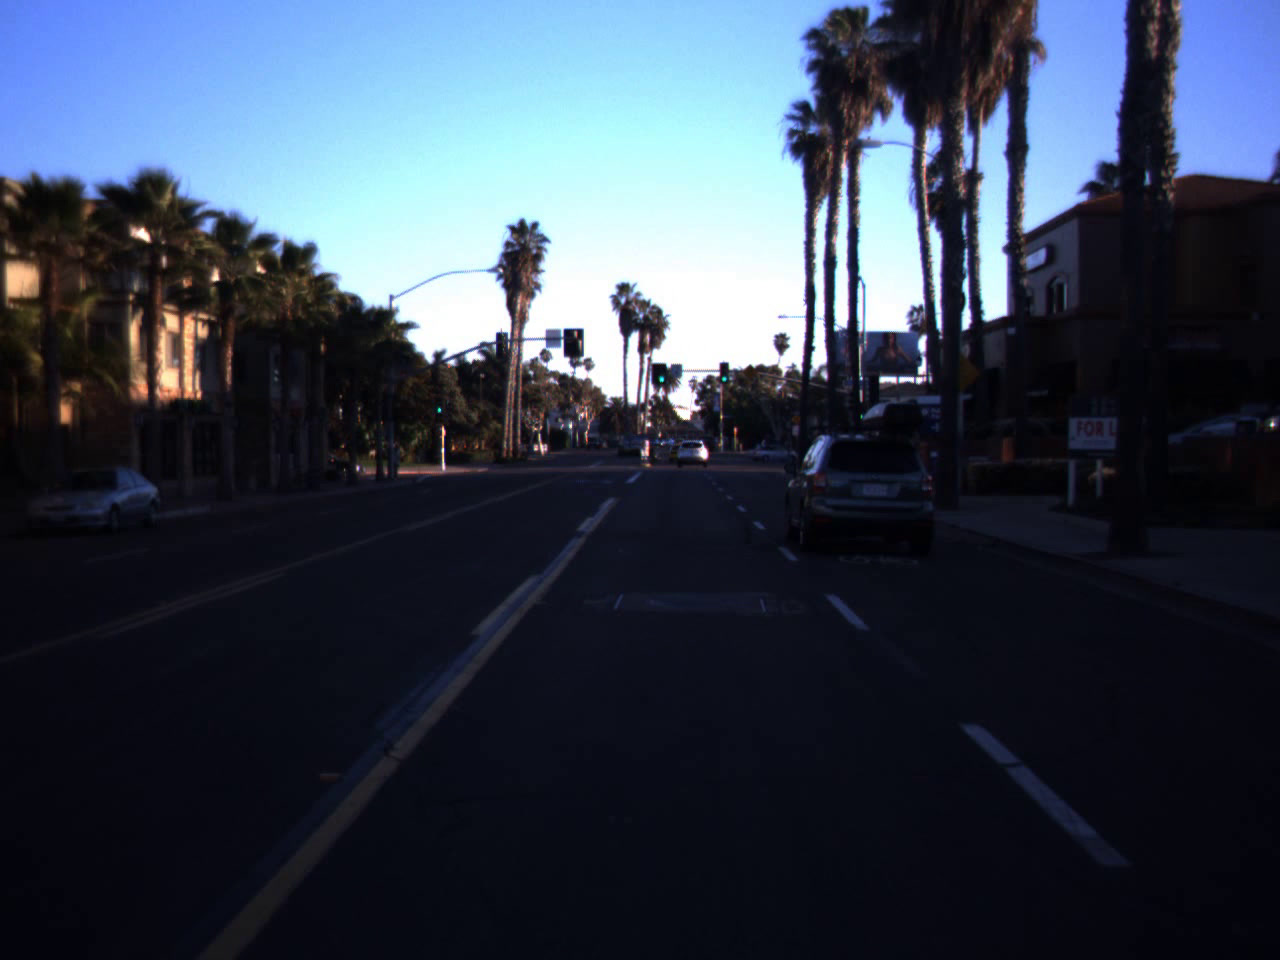go: (433, 394, 445, 414), (656, 364, 668, 384)
